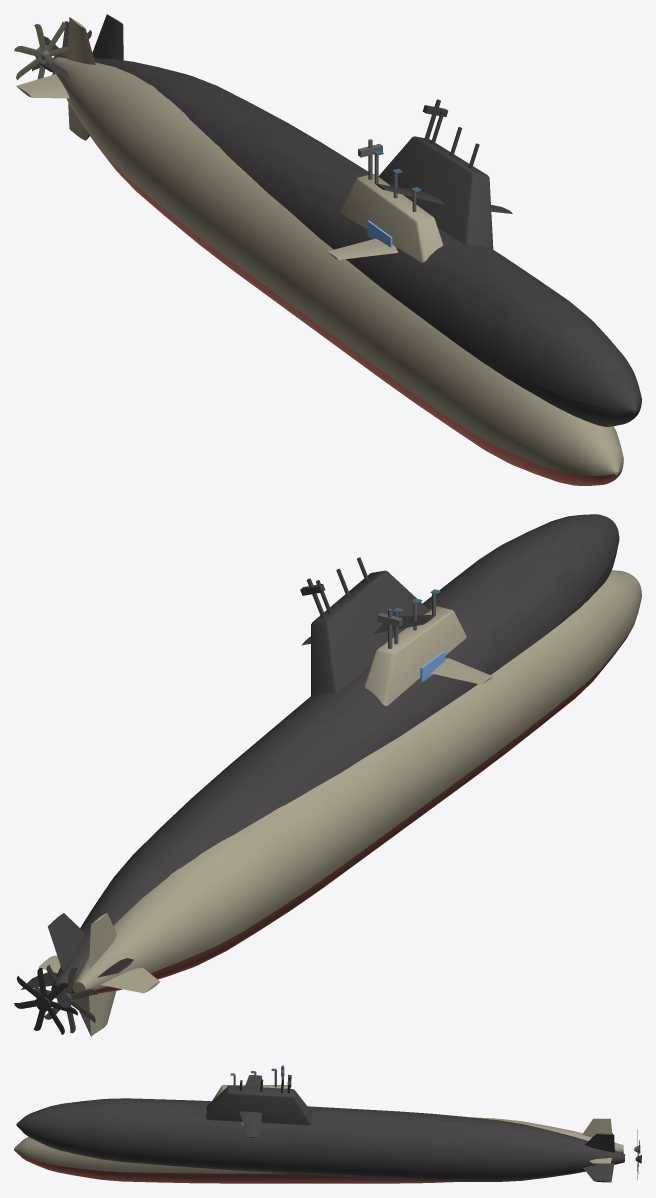
The model's file is submarine__type_039c.glb.
3 renders of one model, top to bottom at view 1: azimuth 30°, elevation 25°; view 2: azimuth 150°, elevation 25°; view 3: azimuth 270°, elevation 25°, orthographic. The views are drawn at different scales.
Visible parts, largest first — view 1: Hull_Mesh, Wreck; view 2: Hull_Mesh, Wreck; view 3: Wreck, Hull_Mesh.
Boxes of the visible parts, x1,y1,x2,y2 form: Hull_Mesh: (14,17,623,485); Wreck: (32,14,641,426); Hull_Mesh: (34,570,641,1035); Wreck: (14,514,619,1036); Wreck: (16,1074,641,1182); Hull_Mesh: (14,1068,640,1183).
Size of what is drawn, in the model's own units: 13.73 by 16.73 by 76.75.
